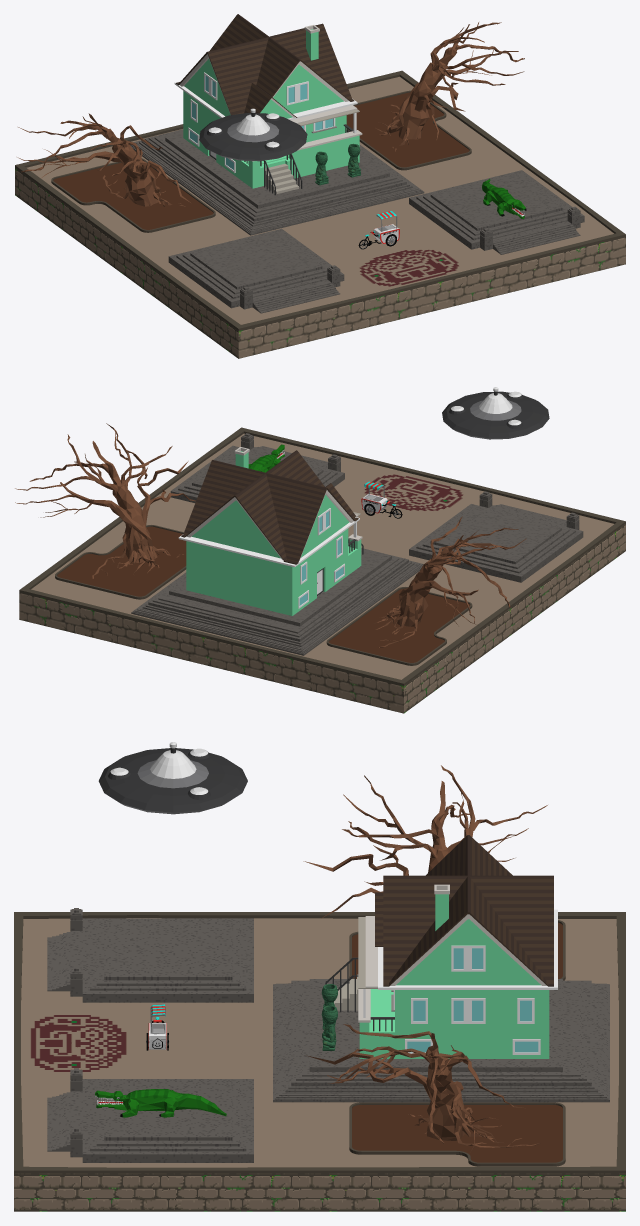
3 views of the same model, one above another, from view 1: azimuth 30°, elevation 25°; view 2: azimuth 150°, elevation 25°; view 3: azimuth 270°, elevation 25° (orthographic). The views are drawn at different scales.
Parts seen in each view (by area): view 1: Cube.011, Cube.352, OBJRANDOM_UFO, ANIMAL_COCODRILO, VEHICLES_SNOWBAL_BIKE; view 2: Cube.011, Cube.352, OBJRANDOM_UFO, VEHICLES_SNOWBAL_BIKE, ANIMAL_COCODRILO; view 3: Cube.011, Cube.352, OBJRANDOM_UFO, ANIMAL_COCODRILO, VEHICLES_SNOWBAL_BIKE.
Boxes of the visible parts, x1,y1,x2,y2 form: Cube.011: (15, 22, 625, 358); Cube.352: (174, 14, 362, 195); OBJRANDOM_UFO: (199, 108, 307, 161); ANIMAL_COCODRILO: (482, 179, 526, 218); VEHICLES_SNOWBAL_BIKE: (358, 211, 399, 249); Cube.011: (15, 423, 625, 713); Cube.352: (178, 447, 363, 615); OBJRANDOM_UFO: (442, 387, 549, 439); VEHICLES_SNOWBAL_BIKE: (361, 481, 402, 518); ANIMAL_COCODRILO: (248, 444, 284, 472); Cube.011: (14, 765, 625, 1211); Cube.352: (325, 835, 557, 1058); OBJRANDOM_UFO: (98, 742, 247, 814); ANIMAL_COCODRILO: (95, 1089, 226, 1117); VEHICLES_SNOWBAL_BIKE: (146, 1004, 169, 1050).
Size of the model in its own units: 5099 by 2100 by 4000.
35 materials, 5 textured.
